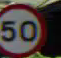Speed limit: (1, 3, 47, 54)
